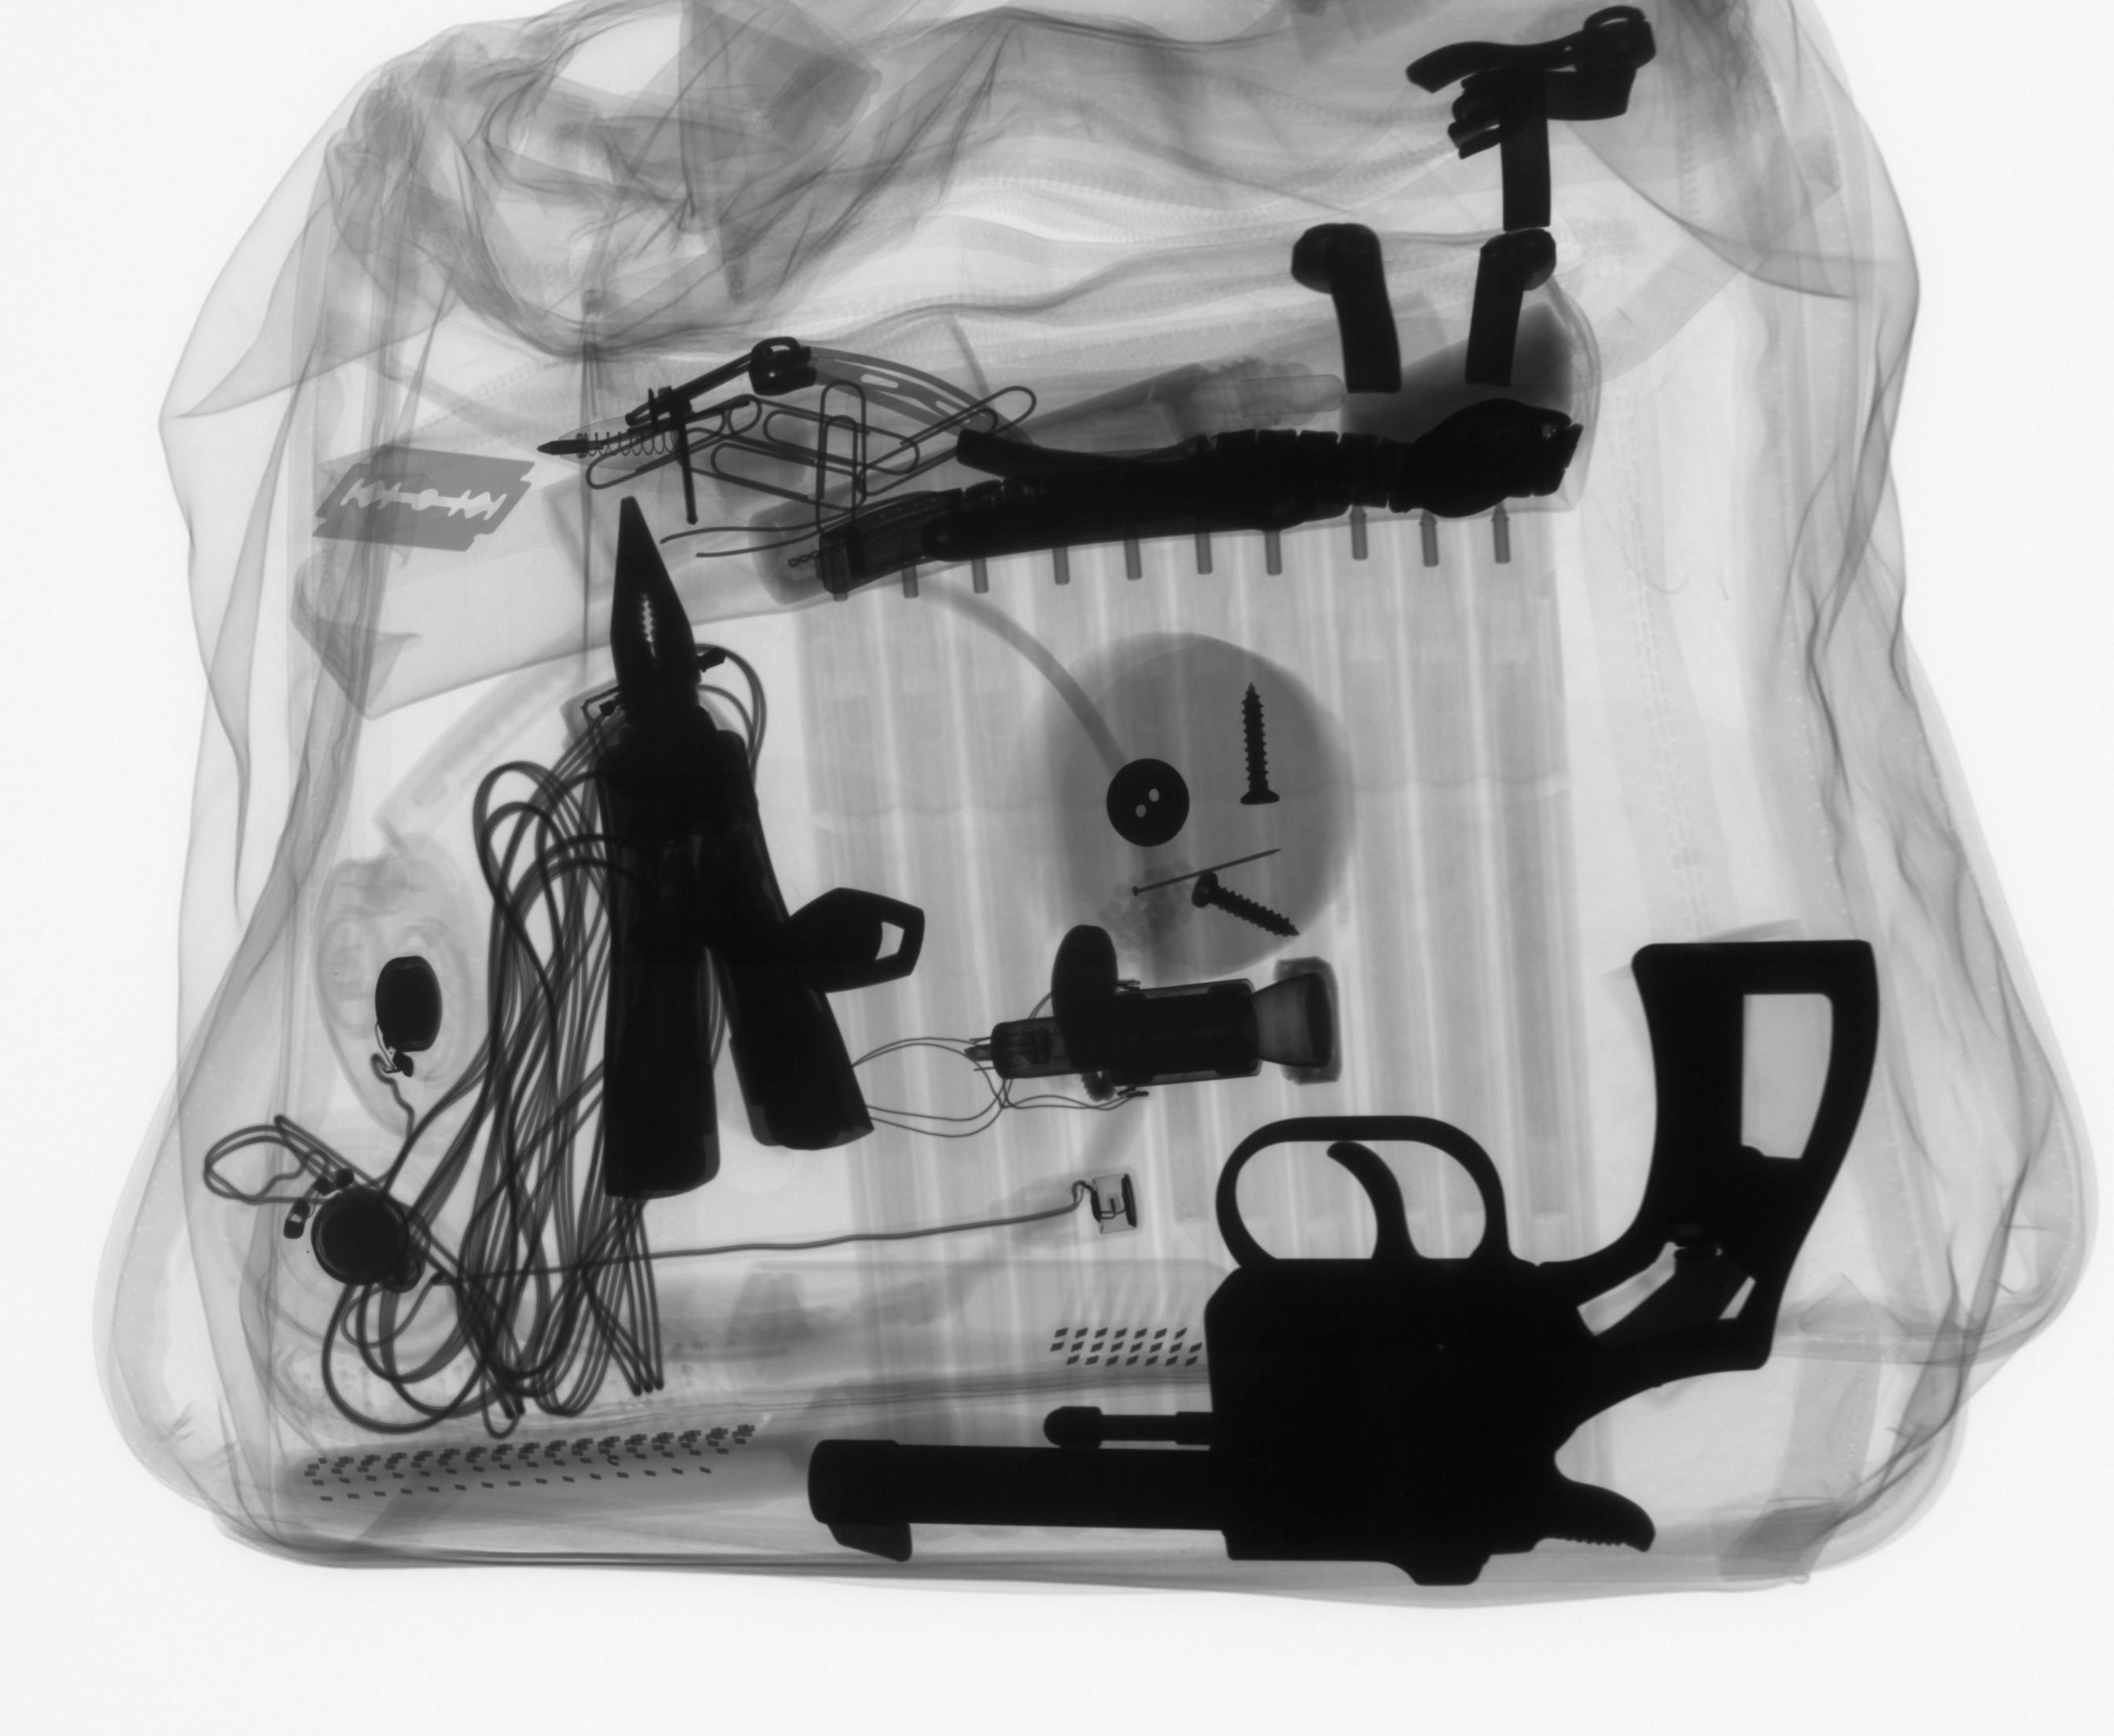Handgun: (797, 927, 1893, 1599)
RazorBlade: (302, 435, 544, 558)
